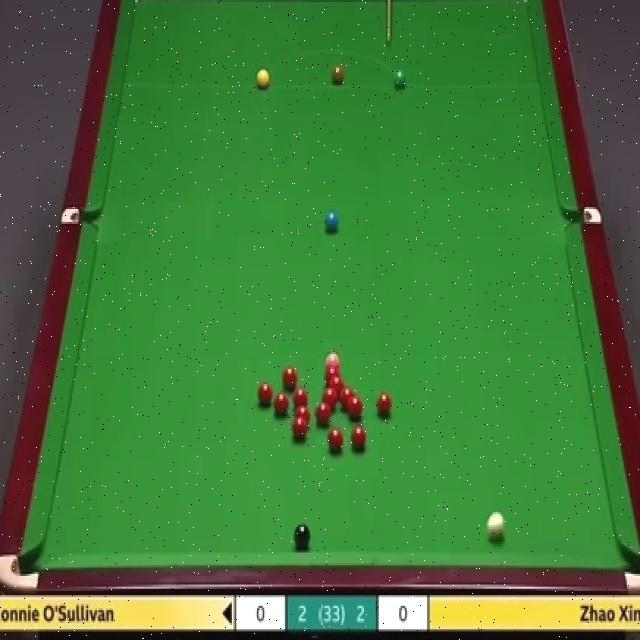black-ball: (294, 521, 310, 550)
blue-ball: (324, 210, 339, 235)
brown-ball: (331, 66, 344, 85)
green-ball: (394, 69, 406, 89)
pink-ball: (324, 349, 341, 365)
red-ball: (256, 381, 276, 408), (292, 417, 310, 444), (273, 391, 290, 419), (348, 394, 364, 420), (376, 392, 393, 416), (282, 363, 298, 388), (327, 428, 344, 451), (351, 425, 367, 449), (316, 402, 332, 425), (293, 388, 309, 409), (320, 389, 338, 406), (296, 406, 311, 426), (326, 376, 346, 390), (342, 390, 356, 407), (323, 366, 342, 377)
white-ball: (485, 509, 507, 542)
yellow-ball: (256, 67, 271, 90)
